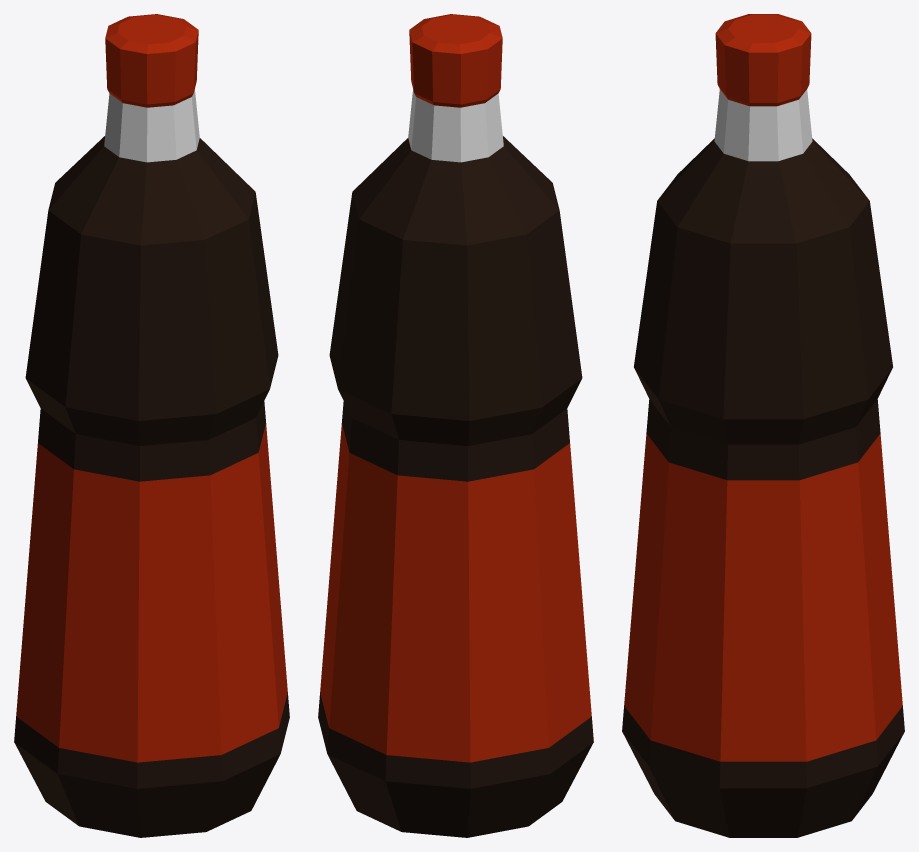
Rendered from TeriyakiBottle.fbx.
3 renders of one model, left to right at view 1: azimuth 30°, elevation 25°; view 2: azimuth 150°, elevation 25°; view 3: azimuth 270°, elevation 25°, orthographic.
Parts seen in each view (by area): view 1: Cylinder; view 2: Cylinder; view 3: Cylinder.
Part boxes in pixels (box(x1,y1,x2,y2)): Cylinder: box(14, 14, 289, 837); Cylinder: box(318, 14, 593, 837); Cylinder: box(622, 14, 904, 837).
Size of the model in its own units: 190 by 597 by 200.
